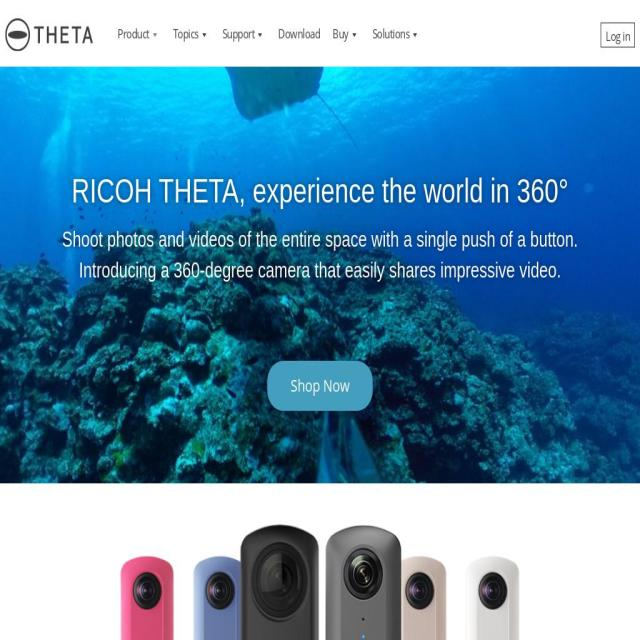button: (267, 361, 373, 411), (372, 25, 421, 46), (222, 25, 266, 46), (601, 22, 635, 48), (118, 25, 160, 46), (278, 25, 320, 46), (172, 25, 210, 46), (332, 25, 360, 46)
heading: (62, 228, 578, 282), (52, 166, 588, 216)
image: (120, 521, 520, 640), (465, 504, 621, 534), (5, 18, 93, 52)
